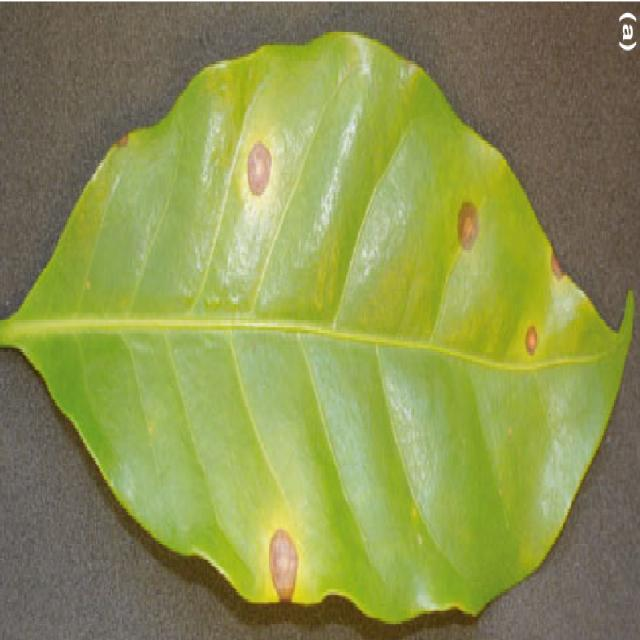Enfermedad-Mancha-de-hierro: (0, 31, 634, 628)
